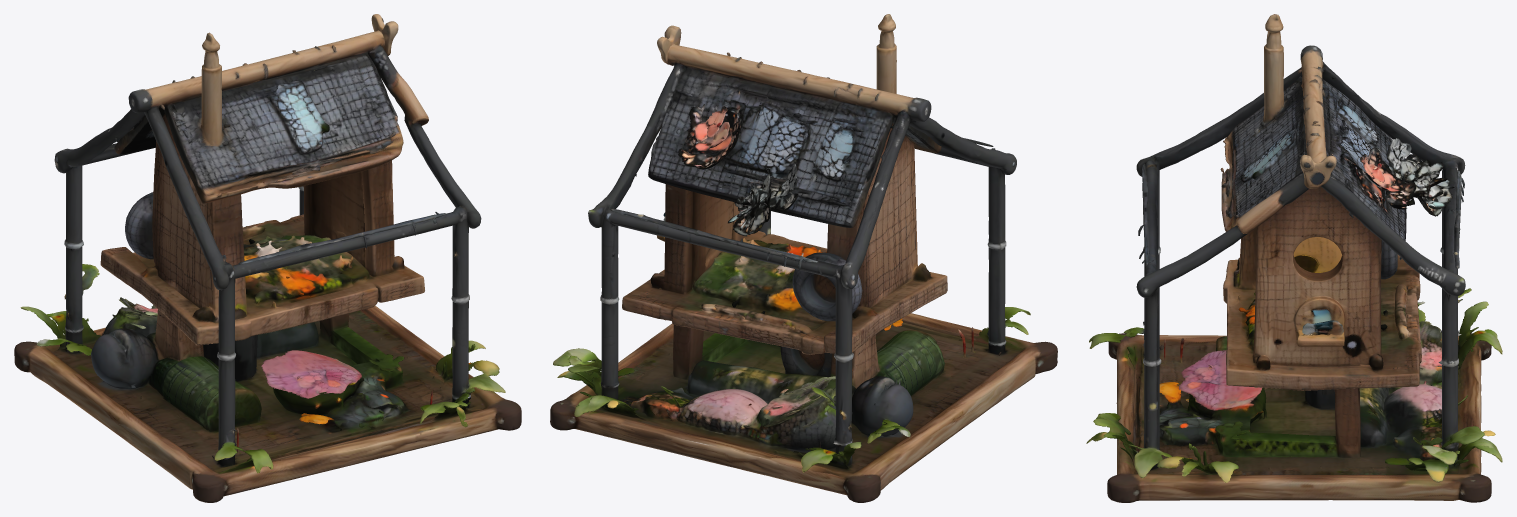
File: prop-butterfly-house.glb
3 views of the same model, side by side, from view 1: azimuth 30°, elevation 25°; view 2: azimuth 150°, elevation 25°; view 3: azimuth 270°, elevation 25° (orthographic). The views are drawn at different scales.
Visible parts, largest first — view 1: tripo_node_b67f4072-f52e-481d-bfdf-0bee9ae77469; view 2: tripo_node_b67f4072-f52e-481d-bfdf-0bee9ae77469; view 3: tripo_node_b67f4072-f52e-481d-bfdf-0bee9ae77469.
Boxes of the visible parts, x1=… form: tripo_node_b67f4072-f52e-481d-bfdf-0bee9ae77469: x1=14, y1=14, x2=521, y2=502; tripo_node_b67f4072-f52e-481d-bfdf-0bee9ae77469: x1=550, y1=14, x2=1057, y2=502; tripo_node_b67f4072-f52e-481d-bfdf-0bee9ae77469: x1=1086, y1=14, x2=1502, y2=502.
Bounding box in the file's own units: 2.34 × 2.5 × 2.48.
Materials: 1 (1 with a texture image).
